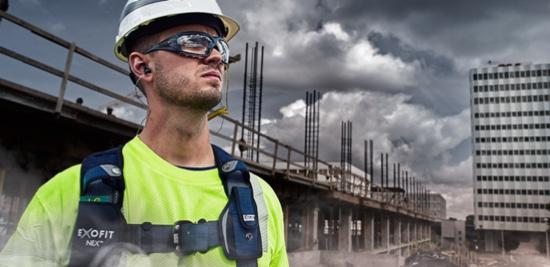helmet: (110, 1, 239, 60)
